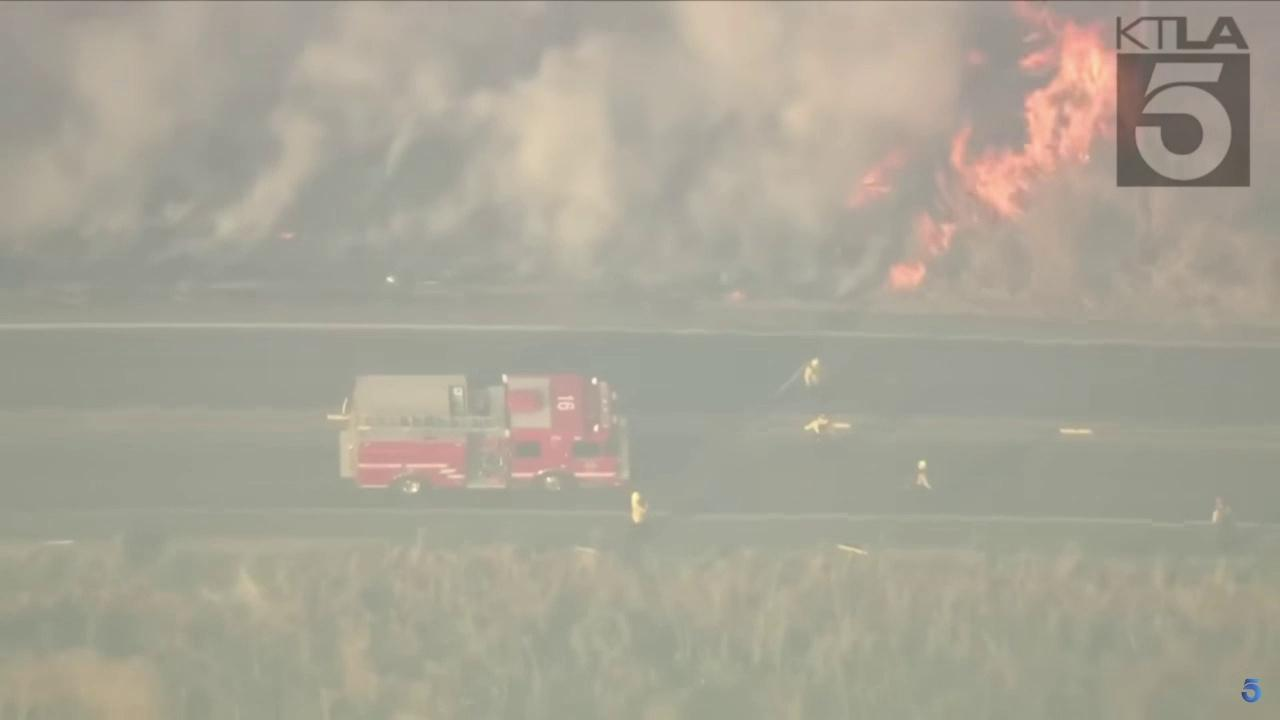fire: (944, 0, 1117, 223), (887, 209, 959, 294), (841, 147, 907, 210), (726, 291, 747, 303)
smoke: (0, 0, 975, 300)
